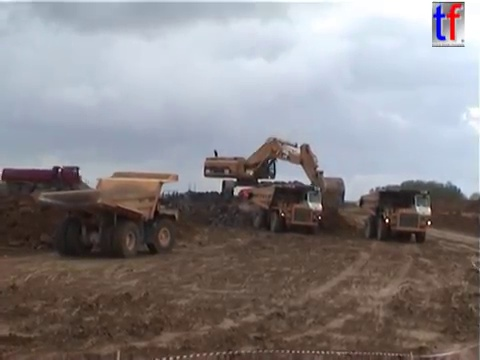excavator: (201, 135, 345, 212), (236, 185, 311, 212)
truck: (36, 170, 180, 258), (356, 188, 432, 243), (246, 182, 324, 232), (1, 164, 82, 194)
